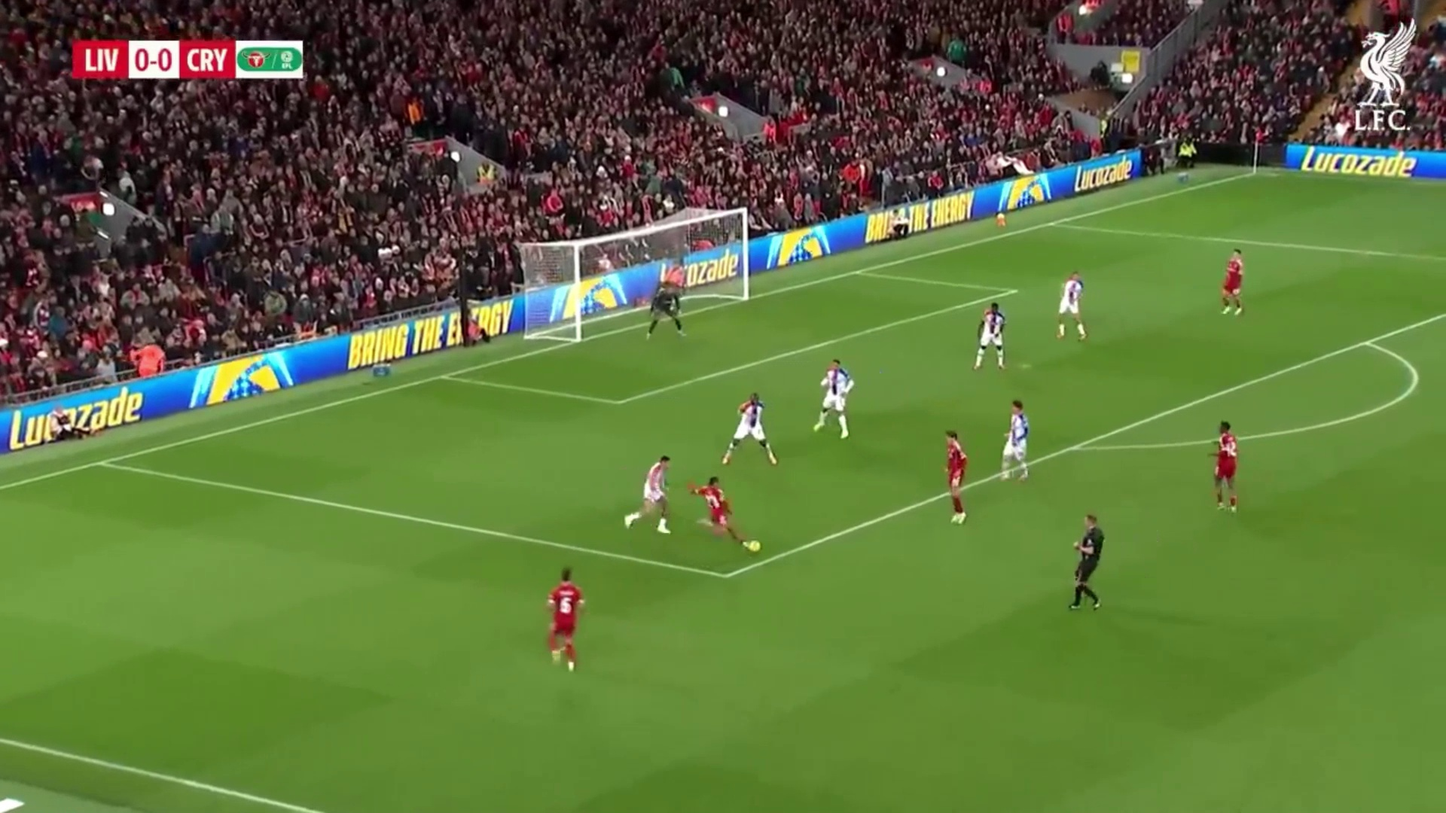player: (691, 477, 762, 550), (722, 393, 782, 470), (545, 568, 584, 672), (626, 455, 672, 536), (1070, 513, 1106, 612), (812, 360, 854, 440), (646, 259, 687, 338), (1000, 399, 1032, 485), (1212, 422, 1242, 511), (943, 431, 969, 525), (973, 301, 1007, 372), (1055, 274, 1089, 343), (1219, 250, 1247, 319)
